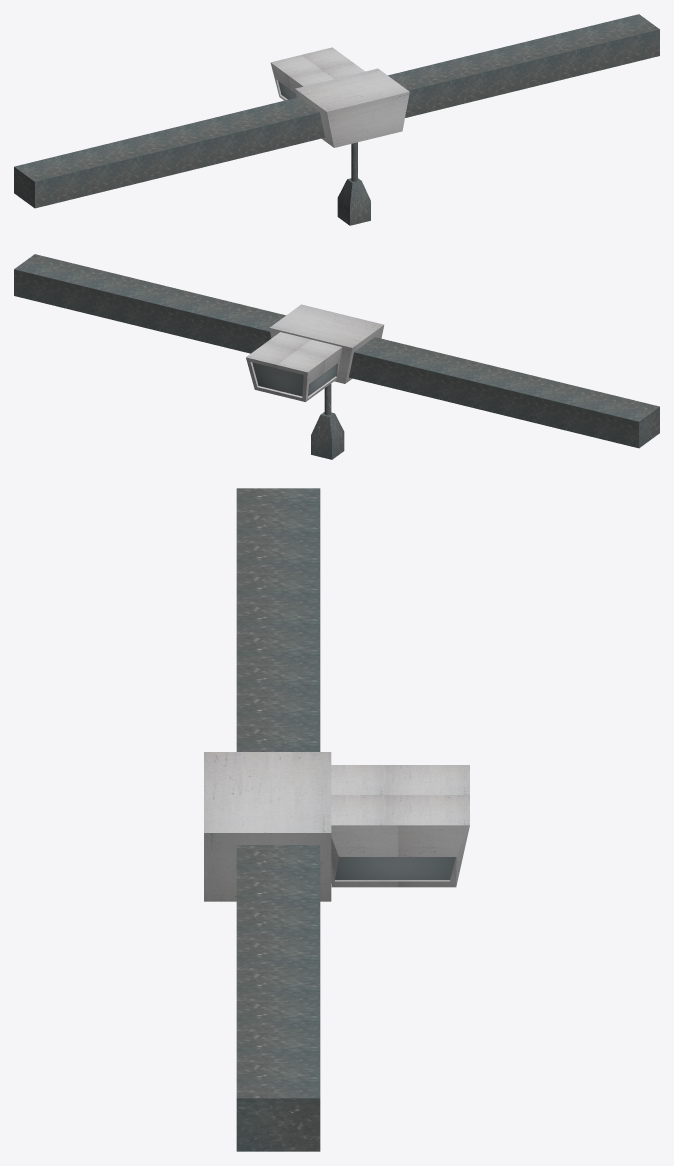
The model's file is crane.FBX.
3 views of the same model, one above another, from view 1: azimuth 30°, elevation 25°; view 2: azimuth 150°, elevation 25°; view 3: azimuth 270°, elevation 25° (orthographic). The views are drawn at different scales.
Parts seen in each view (by area): view 1: Box316, Box317, Box322; view 2: Box316, Box317, Box322; view 3: Box316, Box317.
Part boxes in pixels (x1,y1,x2,y2): Box316: (14, 14, 659, 208); Box317: (270, 47, 409, 147); Box322: (337, 178, 370, 225); Box316: (14, 254, 659, 448); Box317: (246, 304, 384, 401); Box322: (311, 412, 344, 459); Box316: (236, 488, 320, 1151); Box317: (204, 752, 469, 901).
Bounding box in the file's own units: 1915 × 374 × 353.
3 materials, 3 textured.
